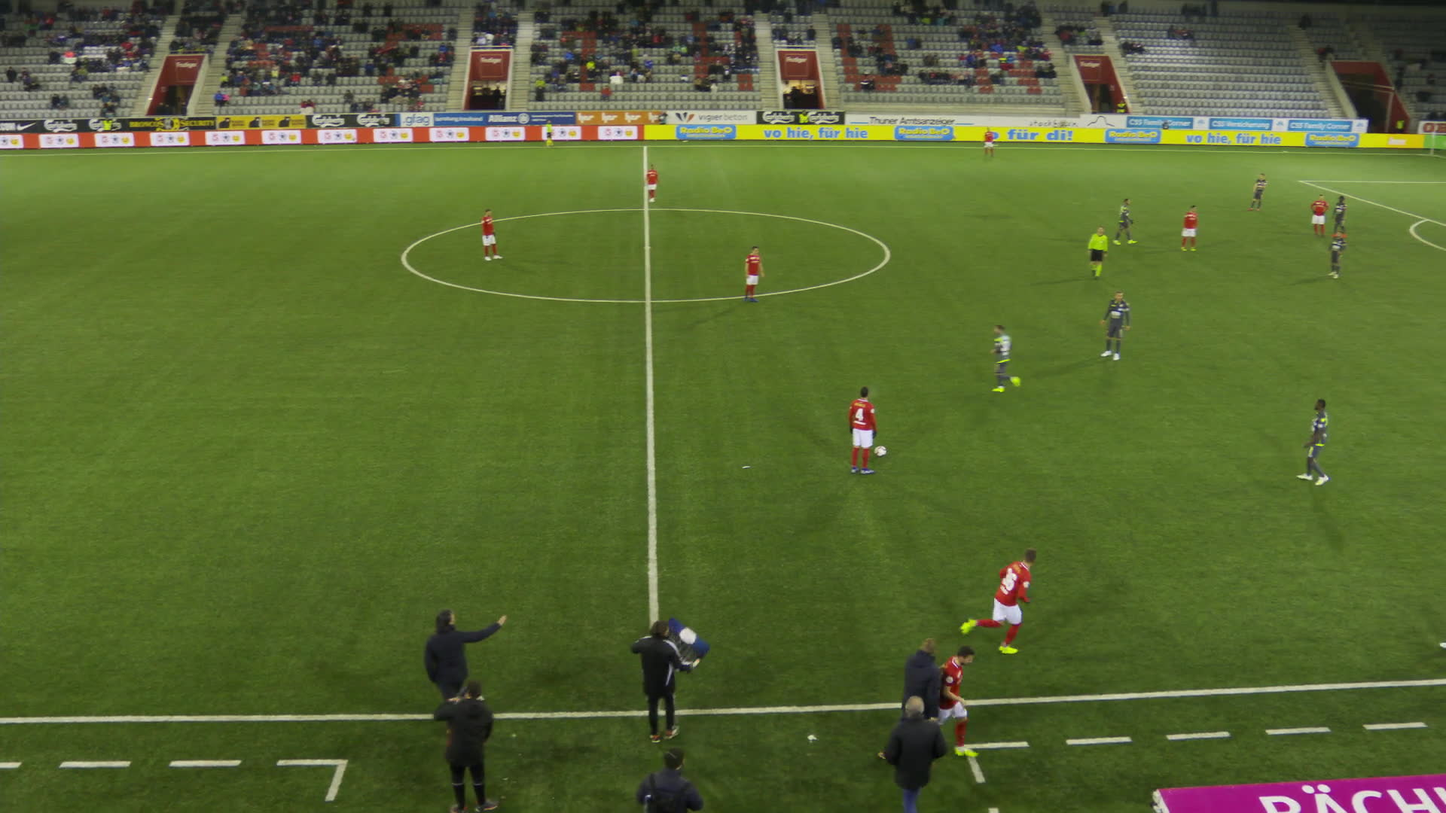ball: (877, 443, 889, 455)
player: (959, 544, 1034, 654), (935, 644, 980, 760), (1295, 396, 1334, 483), (990, 321, 1028, 394), (850, 385, 880, 473), (1103, 289, 1134, 361), (744, 245, 767, 303), (484, 207, 505, 260), (1115, 196, 1136, 245), (1330, 231, 1350, 279), (1182, 204, 1202, 251), (1249, 172, 1272, 212), (1313, 193, 1332, 236), (1336, 194, 1351, 235), (648, 163, 663, 202), (986, 125, 999, 156)
referee: (1091, 225, 1112, 280), (548, 118, 557, 145)
